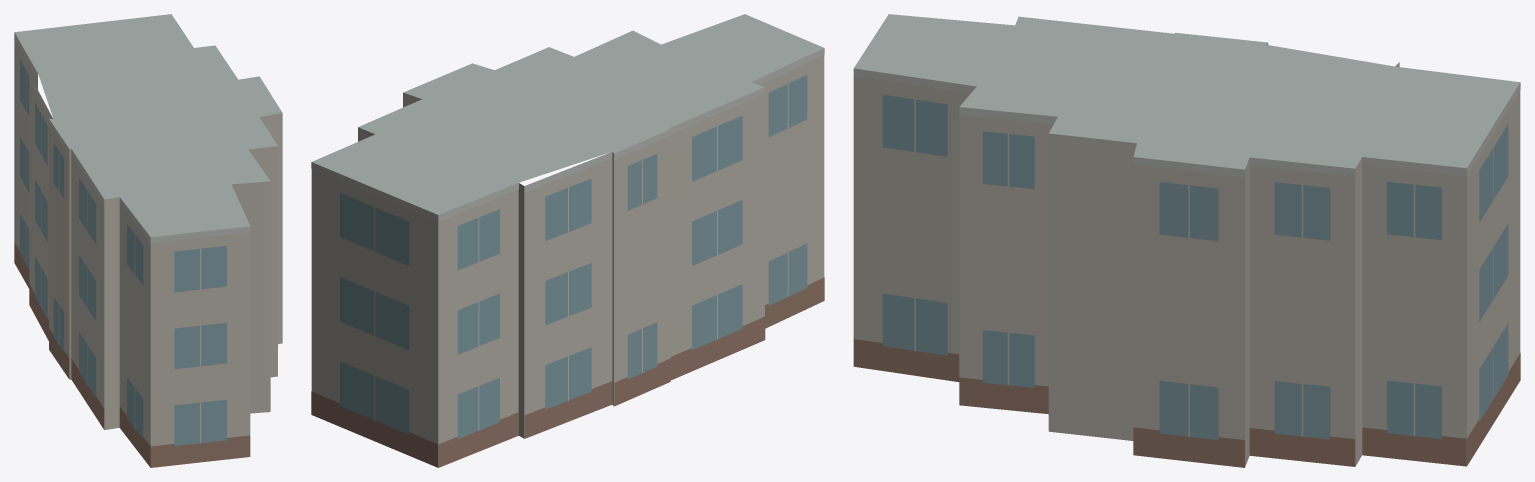
File: survey-upis-32583426.glb
3 renders of one model, left to right at view 1: azimuth 30°, elevation 25°; view 2: azimuth 150°, elevation 25°; view 3: azimuth 270°, elevation 25°, orthographic. The views are drawn at different scales.
Visible parts, largest first — view 1: survey-upis-32583426.tmp; view 2: survey-upis-32583426.tmp; view 3: survey-upis-32583426.tmp.
Part boxes in pixels (x1,y1,x2,y2): survey-upis-32583426.tmp: (14, 14, 282, 467); survey-upis-32583426.tmp: (311, 14, 824, 467); survey-upis-32583426.tmp: (853, 14, 1520, 467).
Bounding box in the file's own units: 10.36 × 9.25 × 18.75.
